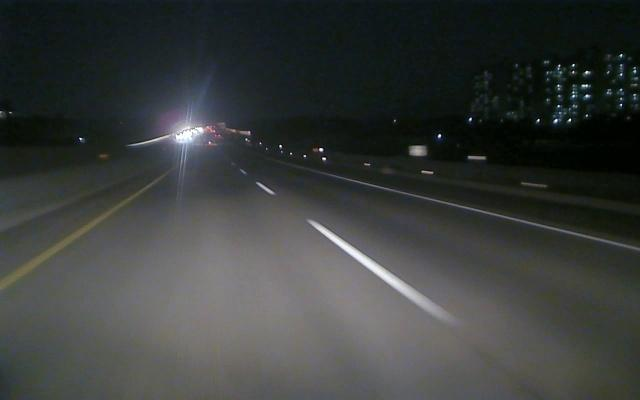lane: (256, 181, 469, 328), (327, 173, 637, 252), (1, 201, 127, 292)
